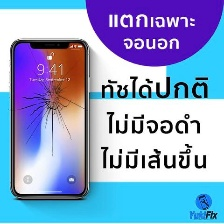phone: (7, 37, 94, 203)
